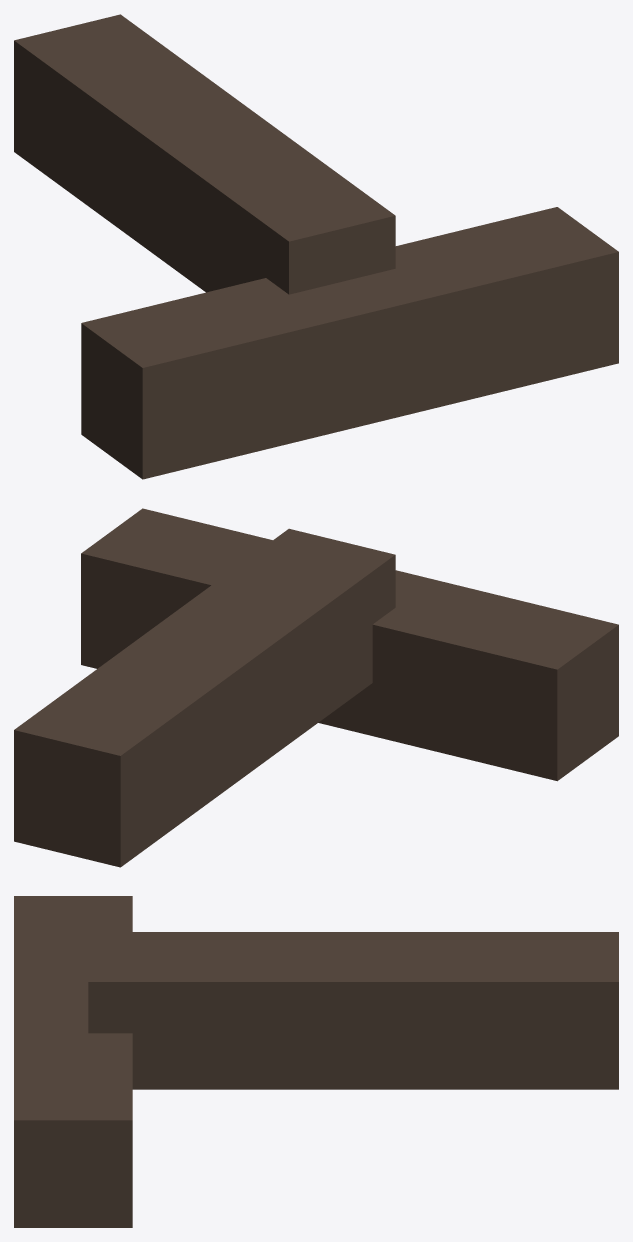
3 views of the same model, one above another, from view 1: azimuth 30°, elevation 25°; view 2: azimuth 150°, elevation 25°; view 3: azimuth 270°, elevation 25° (orthographic). The views are drawn at different scales.
Visible parts, largest first — view 1: Object; view 2: Object; view 3: Object.
Part boxes in pixels (bbox=[...]): Object: bbox=[14, 14, 618, 479]; Object: bbox=[14, 508, 618, 867]; Object: bbox=[14, 896, 618, 1227].
Bounding box in the file's own units: 939 × 310 × 1071.
